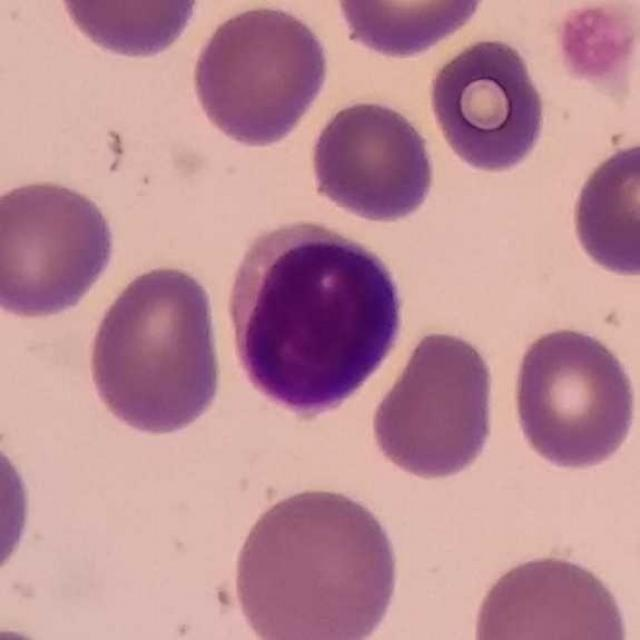Lymphocyte: (222, 220, 413, 427)
Platelets: (552, 2, 640, 93)
RBC: (226, 481, 405, 640), (84, 259, 228, 440), (366, 325, 502, 484), (188, 1, 333, 150), (506, 322, 639, 473), (424, 33, 550, 177), (0, 174, 120, 322), (306, 96, 440, 225), (467, 548, 633, 640), (566, 135, 640, 280), (329, 0, 492, 60), (53, 0, 204, 62), (0, 423, 37, 593)
